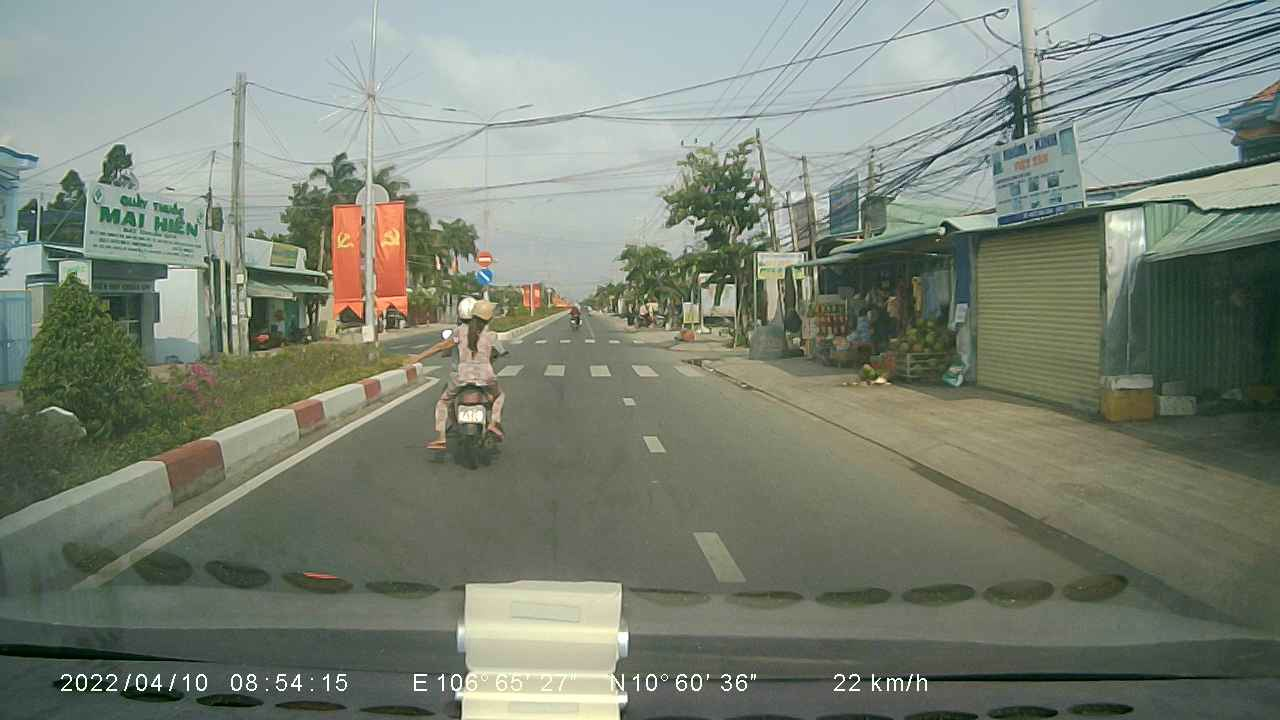Cam di nguoc chieu: (474, 249, 492, 268)
Huong di phai re phai: (474, 267, 493, 285)
